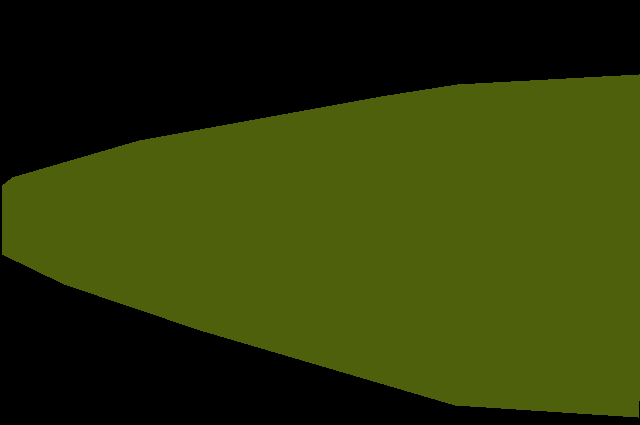Train: (2, 74, 640, 418)
